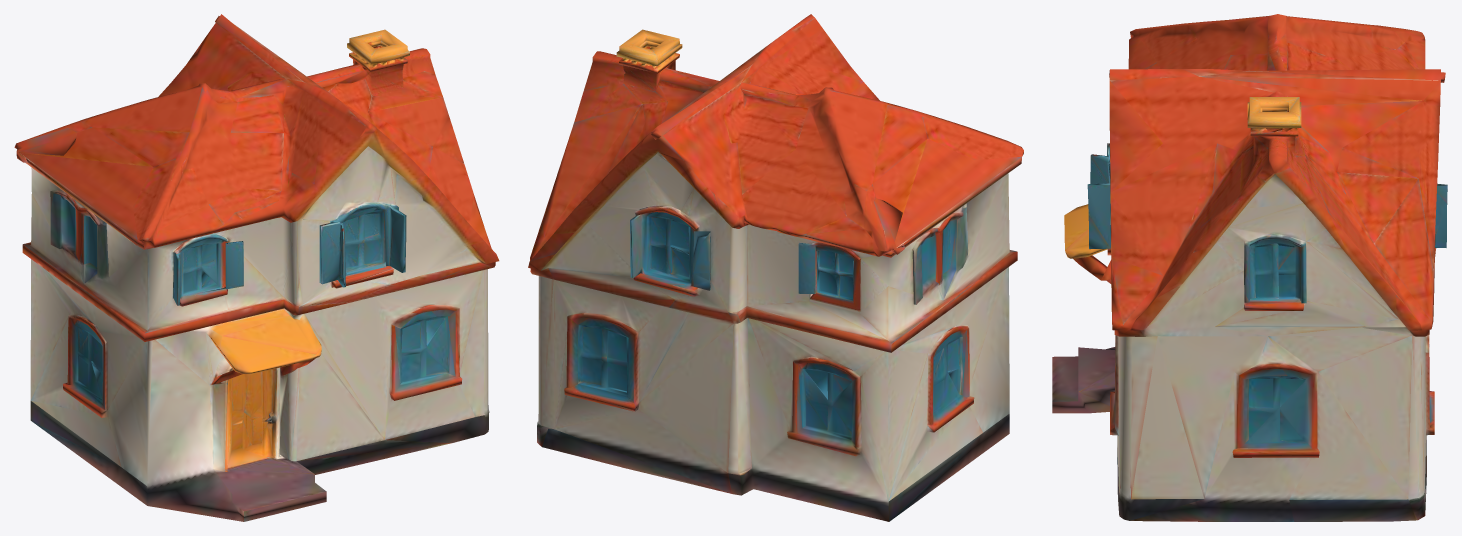
The model's file is house-a-512-orig.glb.
3 views of the same model, side by side, from view 1: azimuth 30°, elevation 25°; view 2: azimuth 150°, elevation 25°; view 3: azimuth 270°, elevation 25° (orthographic). The views are drawn at different scales.
Size of the model in its own units: 1.9 by 1.8 by 1.65.
1 material, 1 textured.
